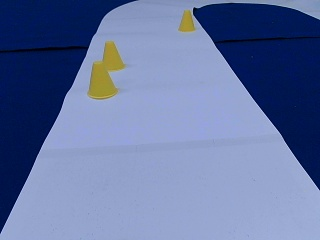cone: (86, 62, 118, 98), (101, 41, 125, 70), (178, 10, 195, 32)
